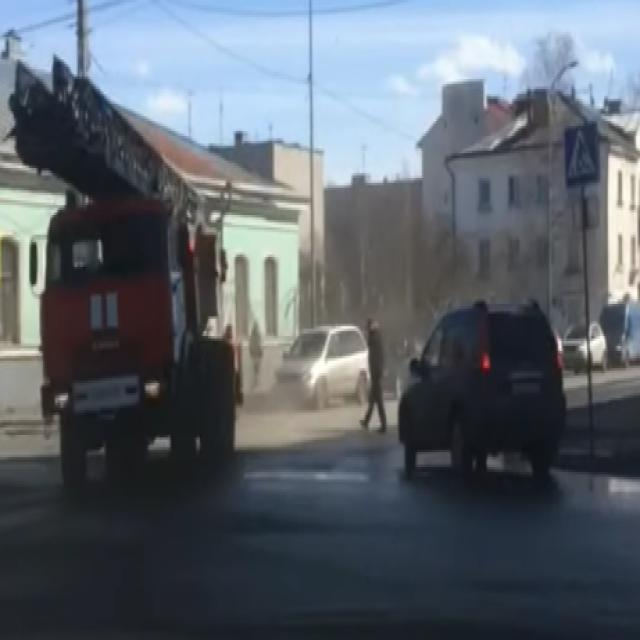fire fighting vehicle: (7, 53, 249, 496)
non emergency car: (397, 292, 571, 499), (274, 322, 374, 411), (563, 317, 608, 378)
